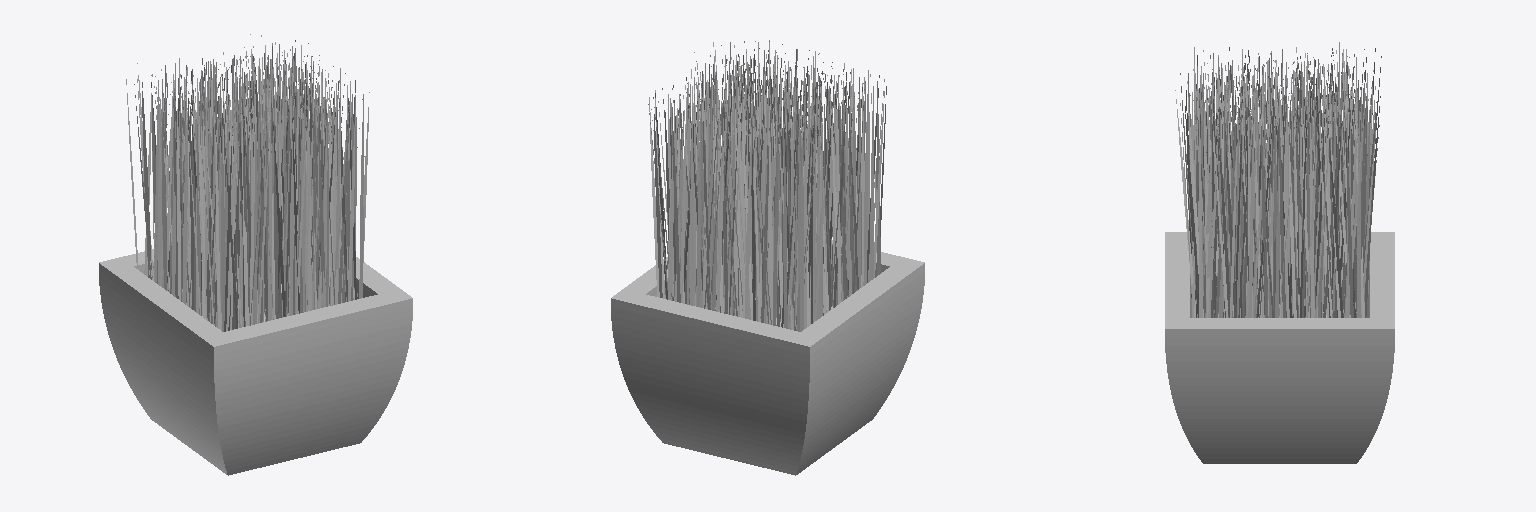
The model's file is grass.obj.
3 renders of one model, left to right at view 1: azimuth 30°, elevation 25°; view 2: azimuth 150°, elevation 25°; view 3: azimuth 270°, elevation 25°, orthographic.
Parts seen in each view (by area): view 1: grass__59891_, pot__59888_; view 2: grass__59891_, pot__59888_; view 3: grass__59891_, pot__59888_.
Part boxes in pixels (x1,y1,x2,y2): grass__59891_: (126,34,369,331); pot__59888_: (99,249,412,475); grass__59891_: (648,40,886,331); pot__59888_: (611,240,924,475); grass__59891_: (1175,42,1381,317); pot__59888_: (1165,232,1394,463).
Size of the model in its own units: 3.54 by 5.95 by 3.54.